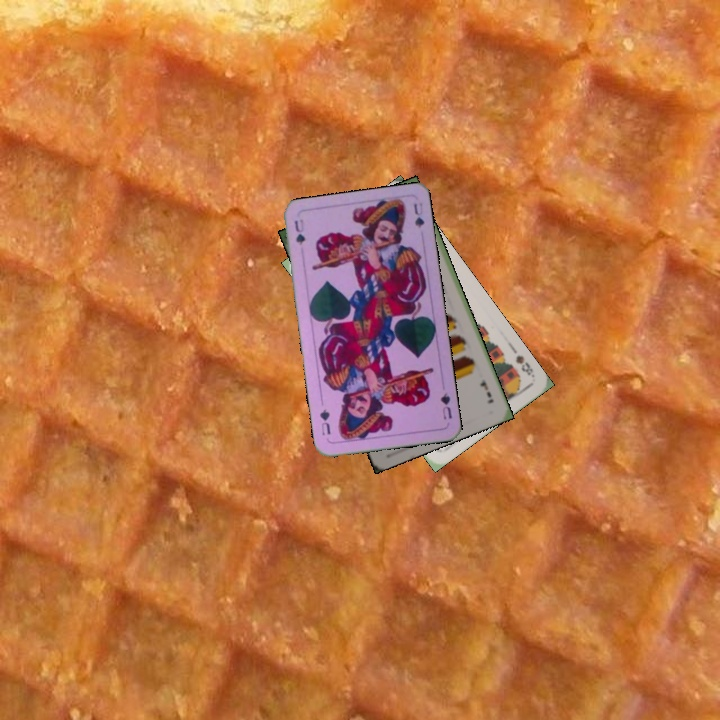E7: (476, 376, 496, 406)
GU: (436, 389, 455, 422), (290, 215, 308, 248)
S8: (511, 351, 537, 380)
